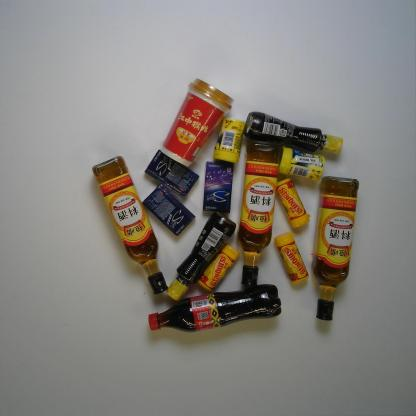Candy: (197, 241, 241, 293), (274, 231, 310, 285), (276, 176, 311, 229)
Drink: (146, 283, 286, 335)
Gum: (140, 182, 197, 238), (144, 148, 201, 199), (199, 160, 237, 214), (277, 144, 327, 182), (212, 116, 249, 164)
Instant Drink: (160, 77, 235, 168)
Seasoner: (91, 154, 169, 296), (310, 172, 362, 323), (235, 138, 282, 287), (165, 210, 237, 303), (243, 110, 345, 154)
